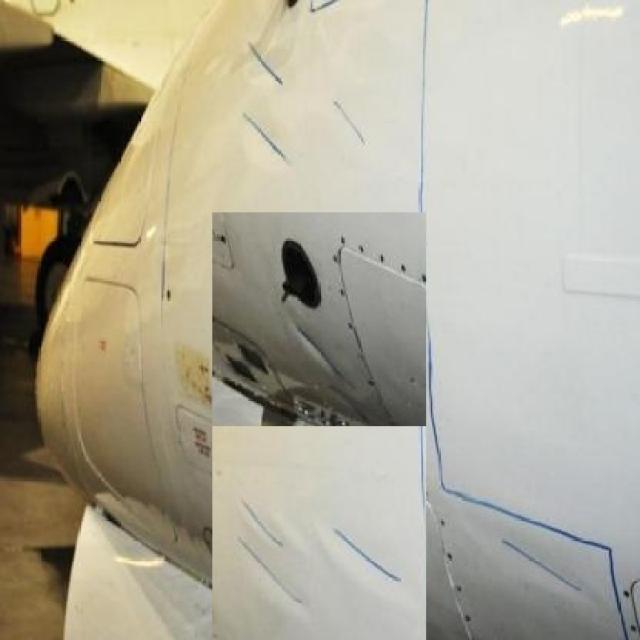dent: (472, 514, 600, 597), (249, 502, 306, 616), (286, 326, 346, 379), (245, 113, 294, 170)
